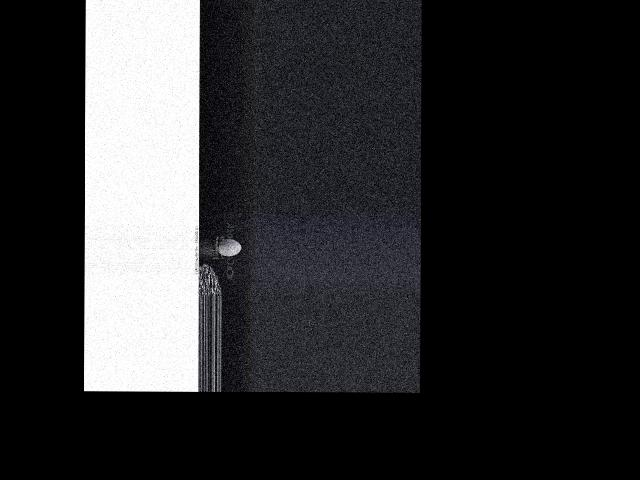egg: (217, 238, 240, 256)
